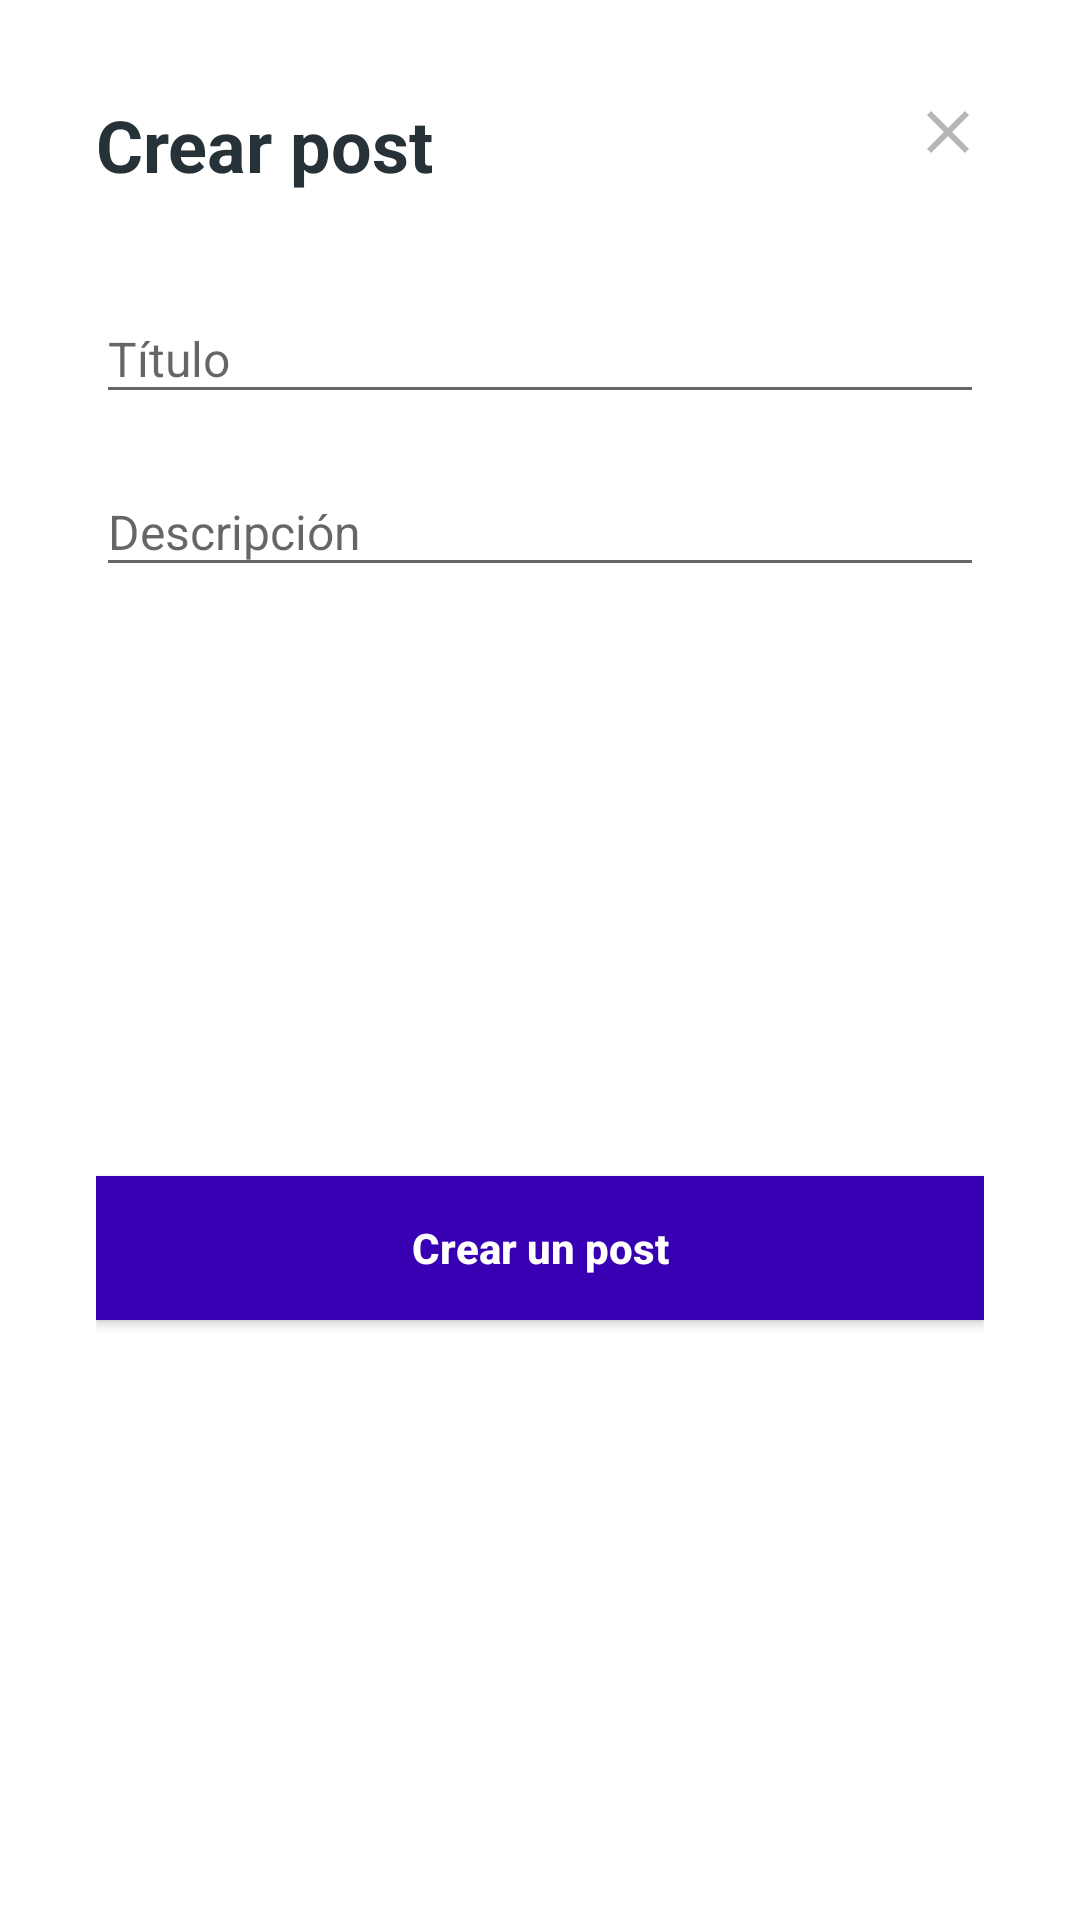

Screen size 1080×1920. Icon name, then its center in pixels as point (x, y):
close: point (948, 132)
